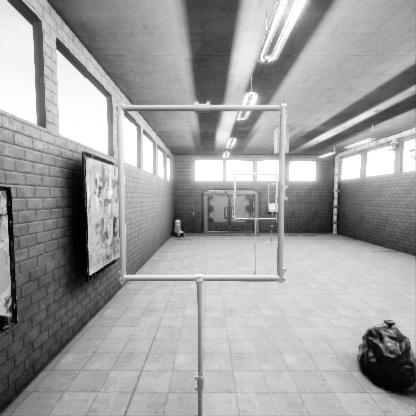gate: (125, 148, 290, 311), (235, 198, 280, 243), (268, 206, 276, 234)
